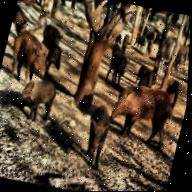boar: (100, 71, 188, 159), (72, 100, 124, 174), (0, 74, 66, 129), (4, 29, 58, 82), (31, 22, 75, 55), (97, 49, 134, 83), (42, 44, 74, 72), (9, 7, 36, 32)
